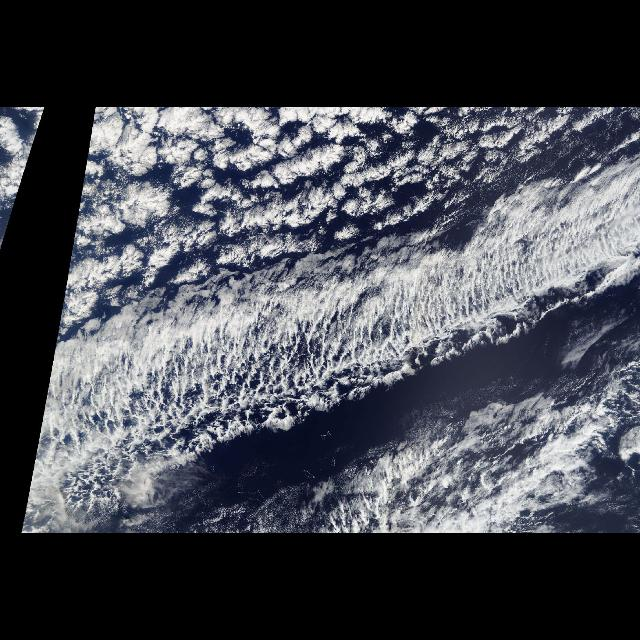Fish: (27, 142, 639, 502)
Flower: (56, 107, 492, 339), (1, 107, 46, 219)
